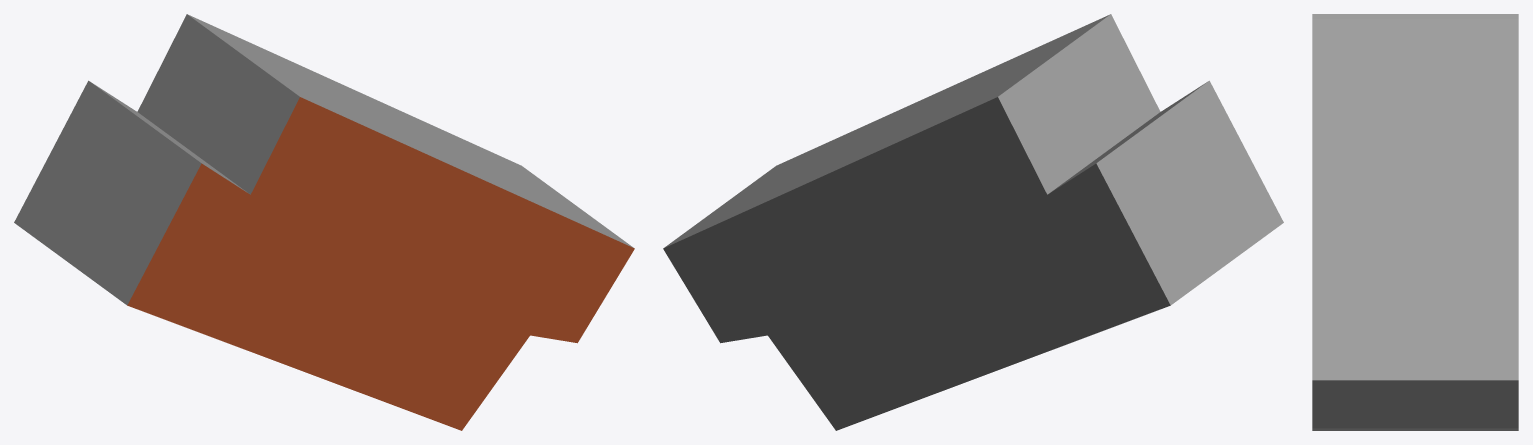
Rendered from construction_6224_assumed_A_Casa_h6m.obj.
The picture shows the model from 3 angles, left to right: view 1: azimuth 30°, elevation 25°; view 2: azimuth 150°, elevation 25°; view 3: azimuth 270°, elevation 25°; orthographic projection. The views are drawn at different scales.
Parts seen in each view (by area): view 1: construction_6224_assumed_A_Casa; view 2: construction_6224_assumed_A_Casa; view 3: construction_6224_assumed_A_Casa.
Boxes of the visible parts, <box> form: construction_6224_assumed_A_Casa: <box>14,14,634,430</box>; construction_6224_assumed_A_Casa: <box>663,14,1283,430</box>; construction_6224_assumed_A_Casa: <box>1312,14,1518,430</box>.
Bounding box in the file's own units: 15.53 × 10.92 × 6.
